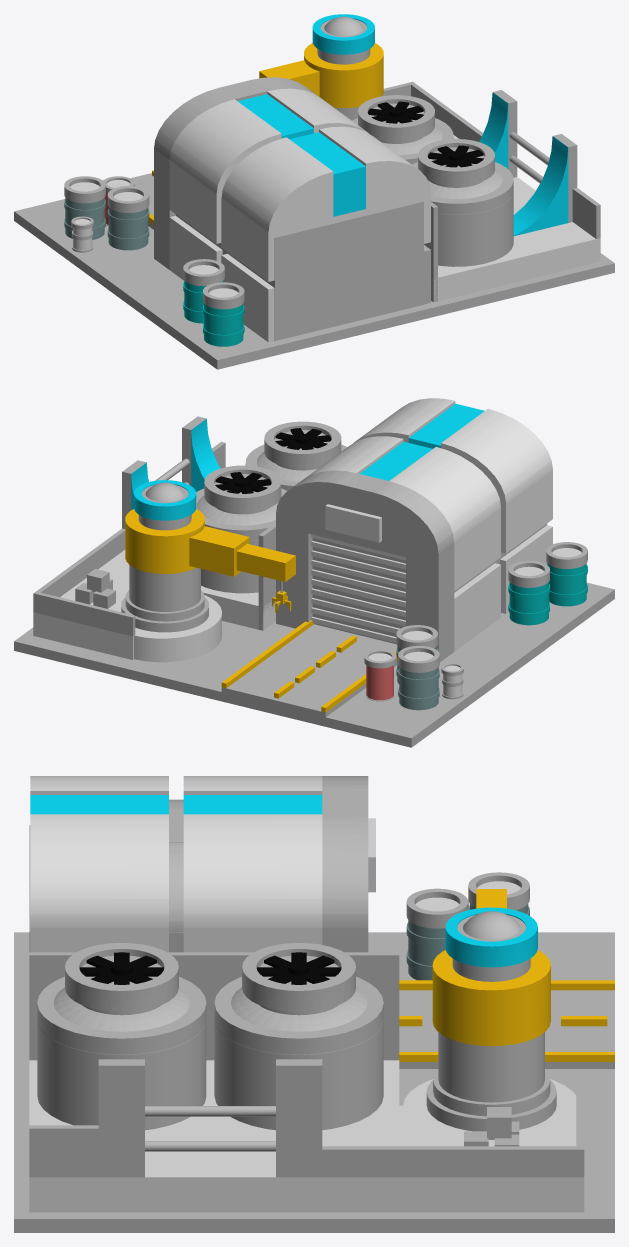
The model's file is factory.glb.
The picture shows the model from 3 angles, top to bottom: view 1: azimuth 30°, elevation 25°; view 2: azimuth 150°, elevation 25°; view 3: azimuth 270°, elevation 25°; orthographic projection. The views are drawn at different scales.
Visible parts, largest first — view 1: Factory; view 2: Factory; view 3: Factory.
Part boxes in pixels (x1,y1,x2,y2): Factory: (14, 14, 614, 369); Factory: (14, 398, 614, 747); Factory: (14, 776, 614, 1232).
Bounding box in the file's own units: 8.85 × 3.5 × 7.85.
